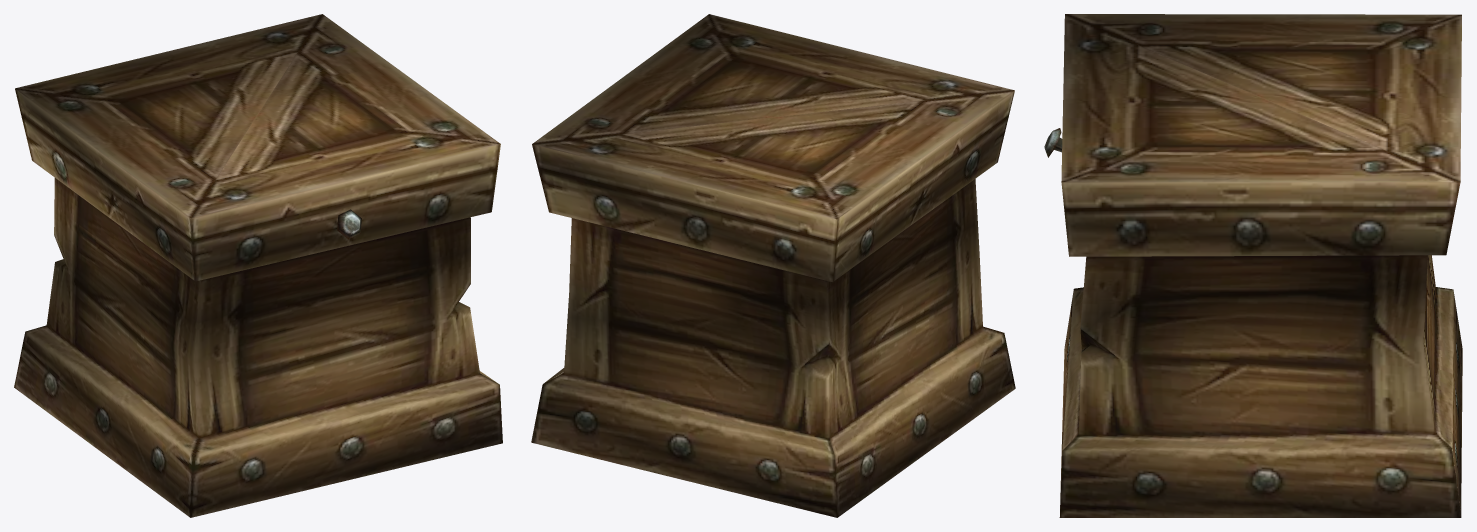
The picture shows the model from 3 angles, left to right: view 1: azimuth 30°, elevation 25°; view 2: azimuth 150°, elevation 25°; view 3: azimuth 270°, elevation 25°; orthographic projection. The views are drawn at different scales.
Size of the model in its own units: 0.9638 by 0.889 by 1.
1 material, 1 textured.
